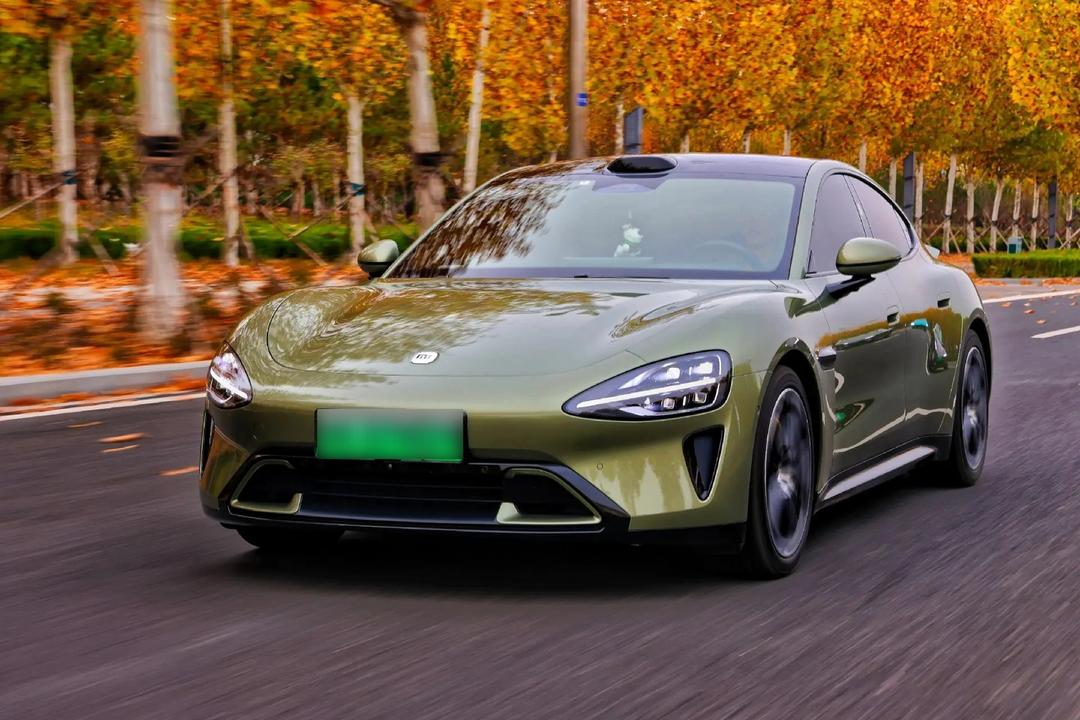su7: (213, 139, 994, 555)
